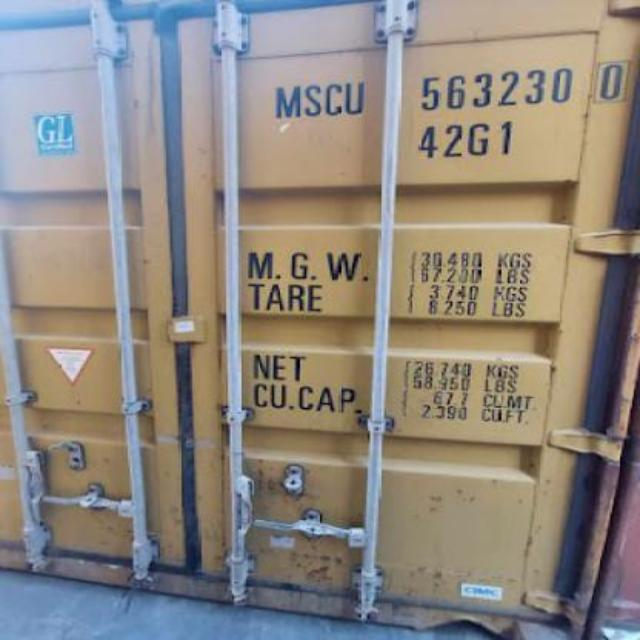0: (594, 58, 632, 104), (548, 67, 576, 105)
2: (500, 66, 524, 114)
3: (522, 65, 548, 108), (472, 68, 494, 109)
5: (418, 74, 442, 114)
6: (444, 72, 468, 116)
C: (320, 78, 348, 120)
M: (268, 80, 304, 124)
S: (304, 83, 326, 121)
U: (344, 80, 368, 122)
